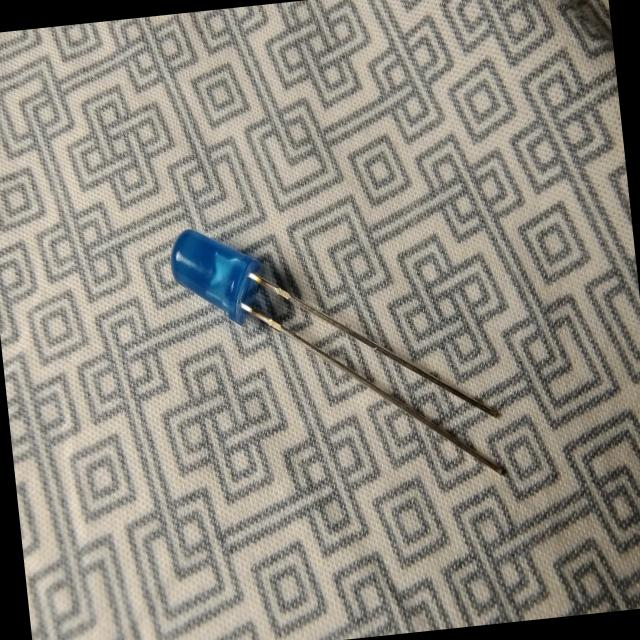blue_led: (165, 195, 509, 509)
